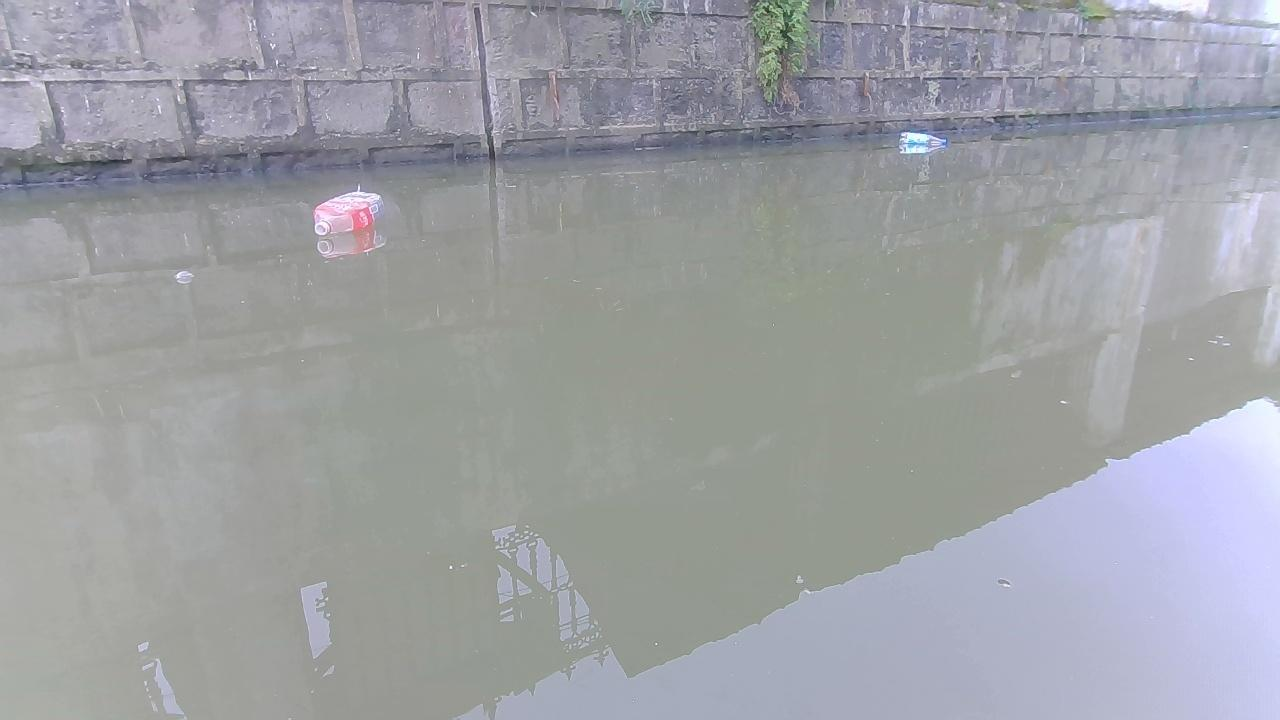bottle: (306, 185, 381, 232), (899, 132, 948, 145)
